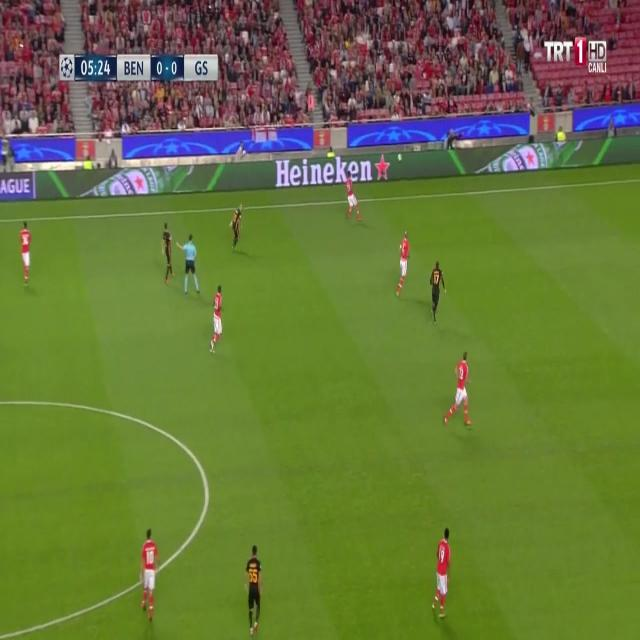Ball: (396, 153, 403, 162)
Player: (439, 346, 477, 431), (429, 524, 454, 620), (243, 544, 266, 640), (140, 527, 160, 625), (427, 258, 448, 325), (208, 281, 225, 356), (16, 219, 33, 288), (393, 230, 410, 298), (224, 204, 246, 256), (160, 220, 175, 289), (344, 174, 362, 230)
Referee: (176, 232, 200, 296)
